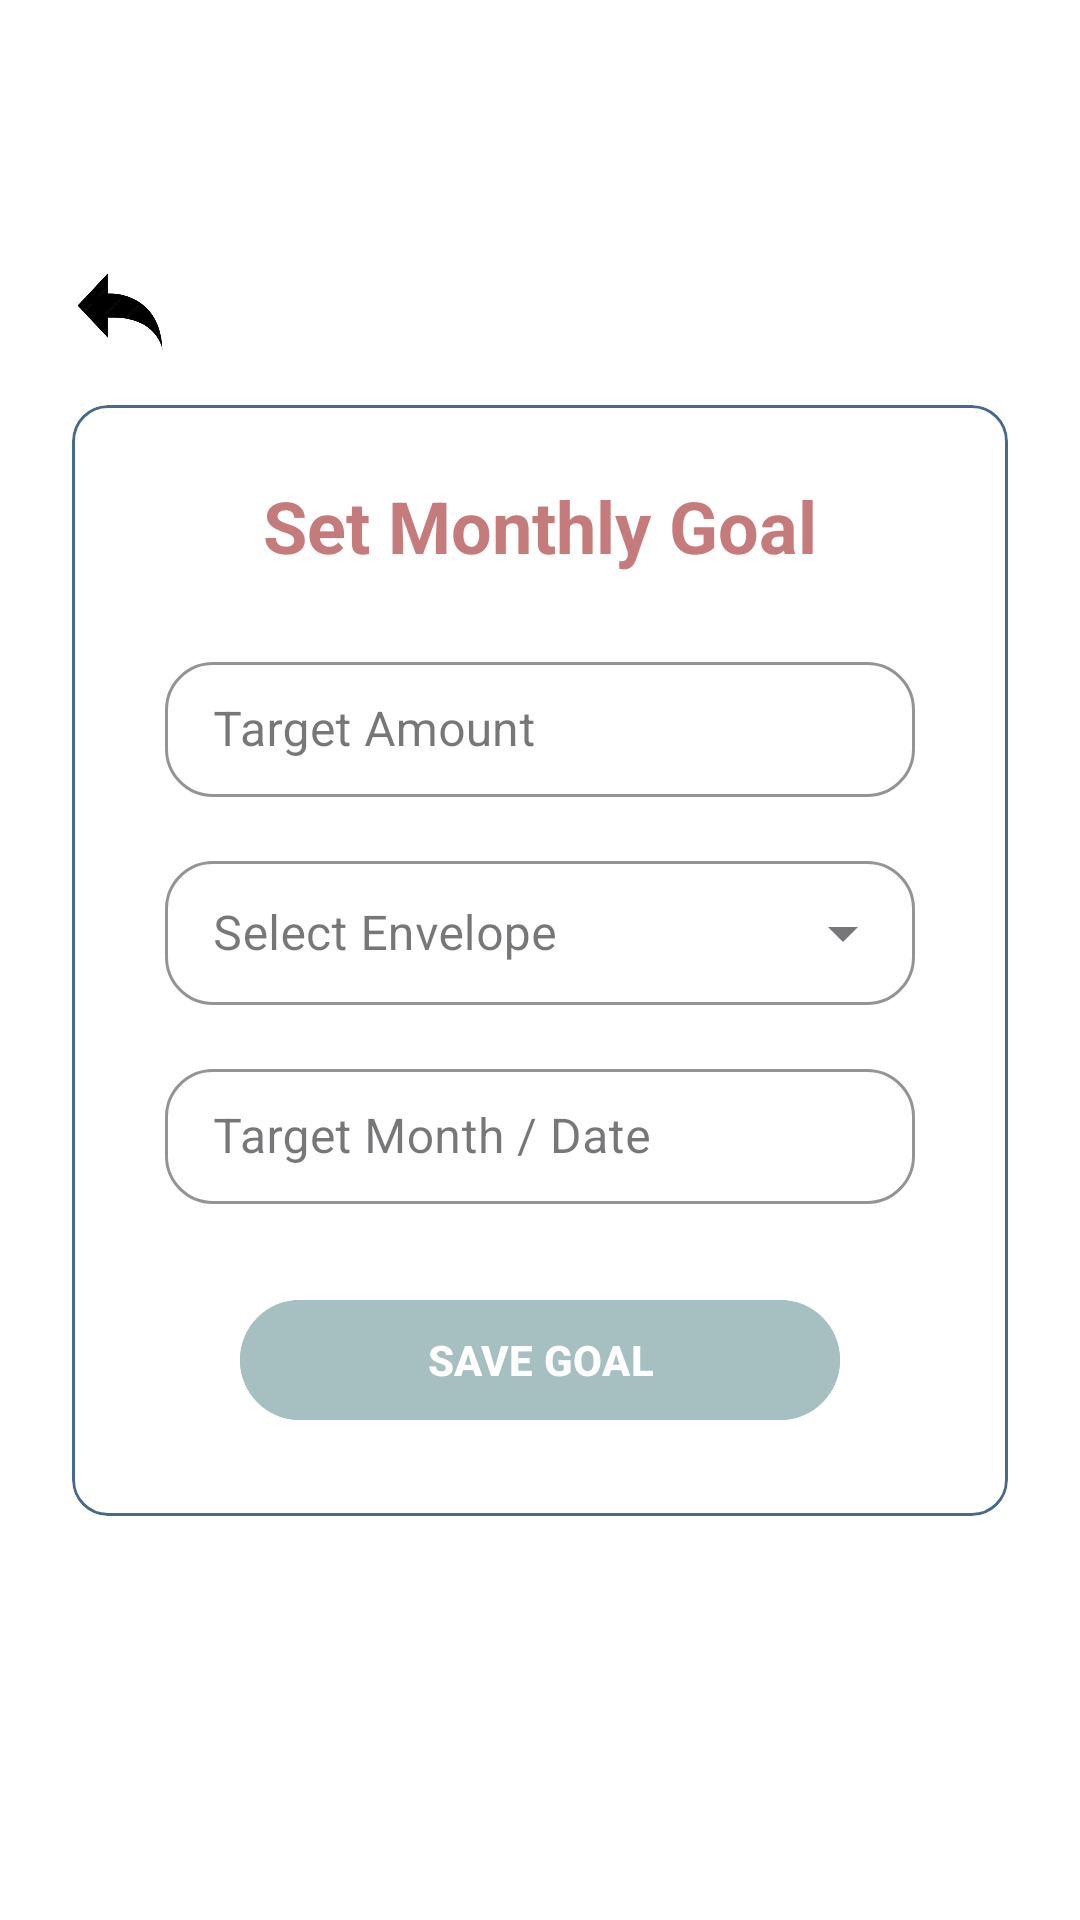

Where icons sit on this 1080 x 1920 app screen, as detection(x1, y1, x2, y2):
back: detection(78, 273, 163, 350)
